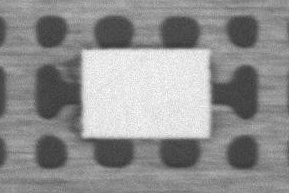DIE_CRACK: (127, 37, 219, 67)
